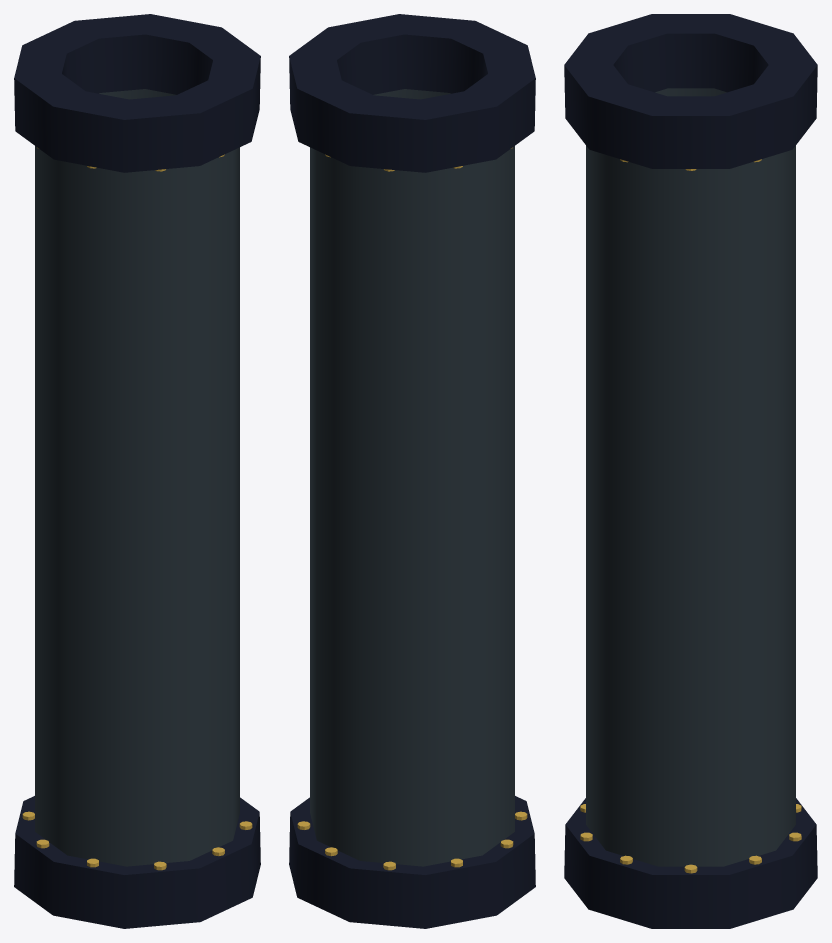
File: P_Straight_01.obj
3 renders of one model, left to right at view 1: azimuth 30°, elevation 25°; view 2: azimuth 150°, elevation 25°; view 3: azimuth 270°, elevation 25°, orthographic.
Parts seen in each view (by area): view 1: P_Straight_01_Rohr, P_Straight_01_Verbindung, P_Straight_01_Schraube; view 2: P_Straight_01_Rohr, P_Straight_01_Verbindung, P_Straight_01_Schraube; view 3: P_Straight_01_Rohr, P_Straight_01_Verbindung, P_Straight_01_Schraube.
Part boxes in pixels (x1,y1,x2,y2): P_Straight_01_Rohr: [35, 89, 239, 866]; P_Straight_01_Verbindung: [14, 14, 260, 928]; P_Straight_01_Schraube: [22, 147, 252, 870]; P_Straight_01_Rohr: [310, 89, 514, 866]; P_Straight_01_Verbindung: [289, 14, 535, 928]; P_Straight_01_Schraube: [297, 147, 527, 870]; P_Straight_01_Rohr: [586, 88, 795, 866]; P_Straight_01_Verbindung: [564, 14, 817, 928]; P_Straight_01_Schraube: [580, 159, 801, 873].
Bounding box in the file's own units: 0.6204 × 2.31 × 0.6523.
